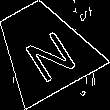N_NW: (11, 17, 76, 80)
